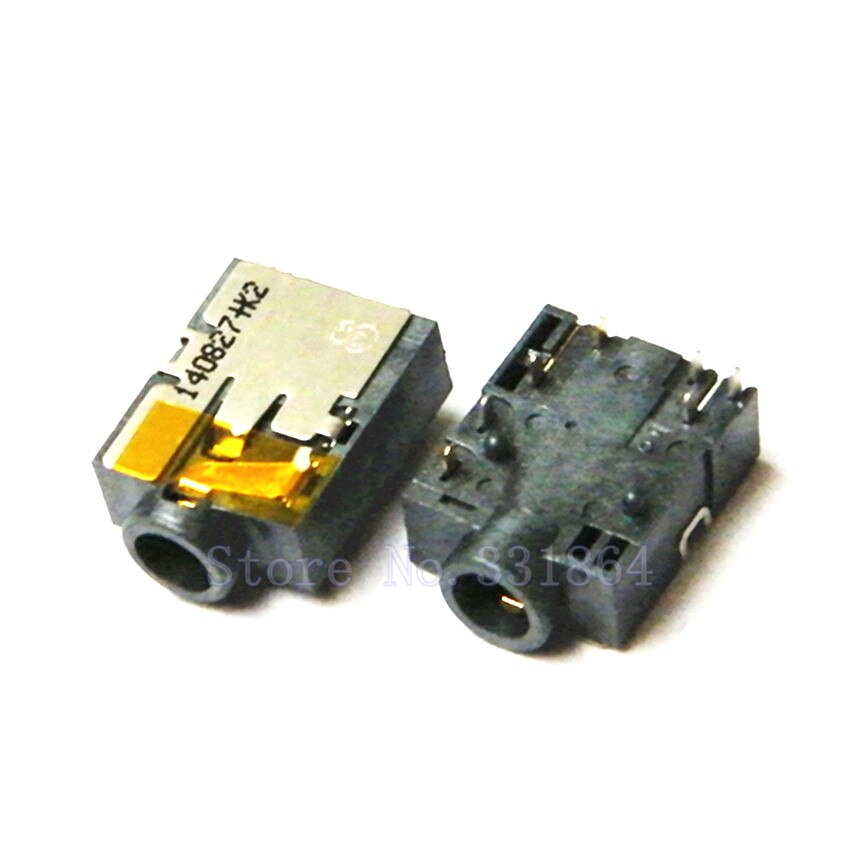aud: (395, 339, 769, 665), (101, 288, 448, 614)
